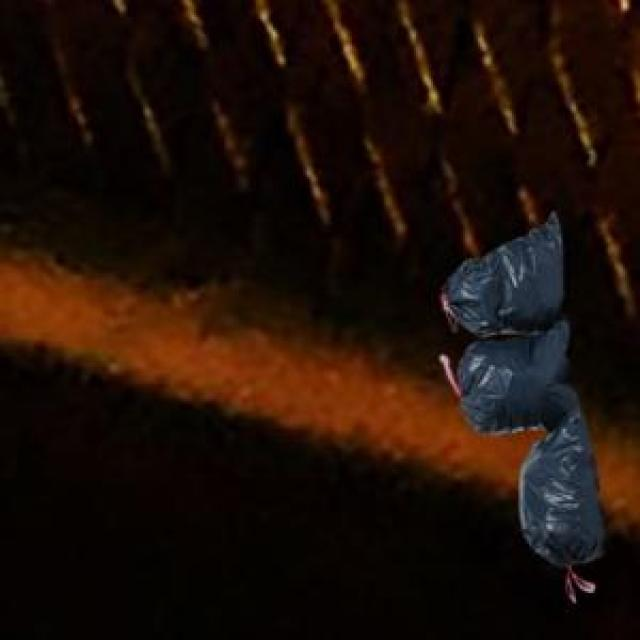Trashbag: (511, 438, 627, 570), (442, 220, 572, 326), (449, 335, 586, 429)
